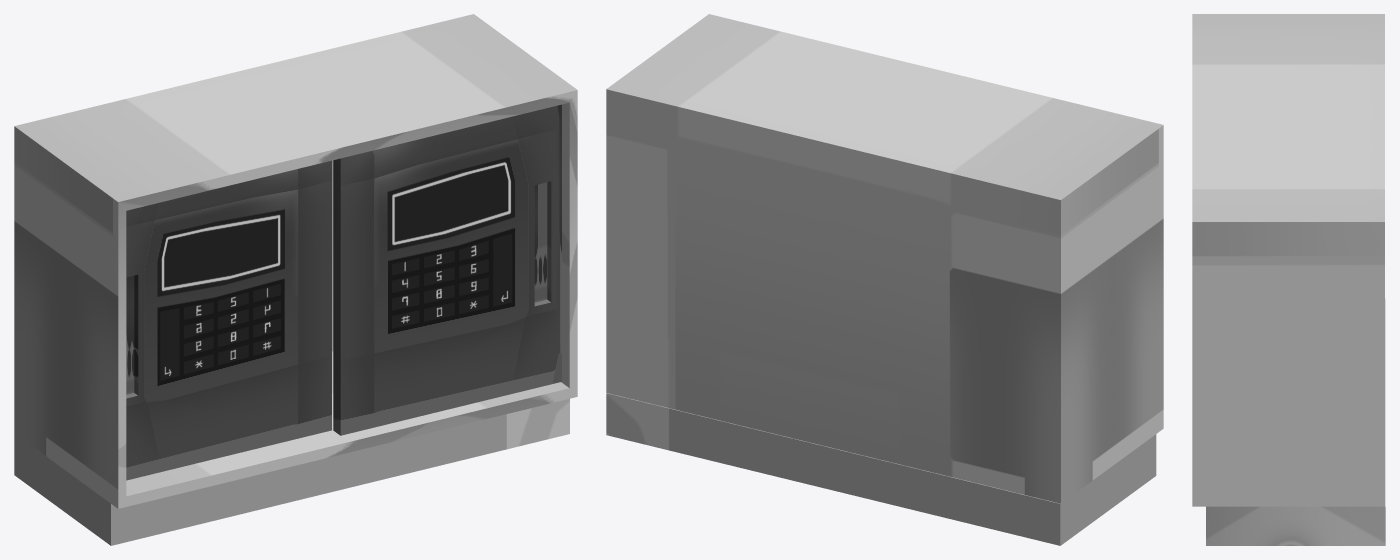
The model's file is Chest5.FBX.
The picture shows the model from 3 angles, left to right: view 1: azimuth 30°, elevation 25°; view 2: azimuth 150°, elevation 25°; view 3: azimuth 270°, elevation 25°; orthographic projection. The views are drawn at different scales.
Parts seen in each view (by area): view 1: chestbox5, Object005, Object019; view 2: chestbox5; view 3: chestbox5.
Boxes of the visible parts, box(x1,y1,x2,y2) form: chestbox5: box(14, 14, 577, 545); Object005: box(333, 104, 561, 435); Object019: box(126, 160, 331, 480); chestbox5: box(606, 14, 1163, 545); chestbox5: box(1192, 14, 1385, 545).
Bounding box in the file's own units: 37.1 × 26.94 × 14.57.
Materials: 2 (2 with a texture image).
